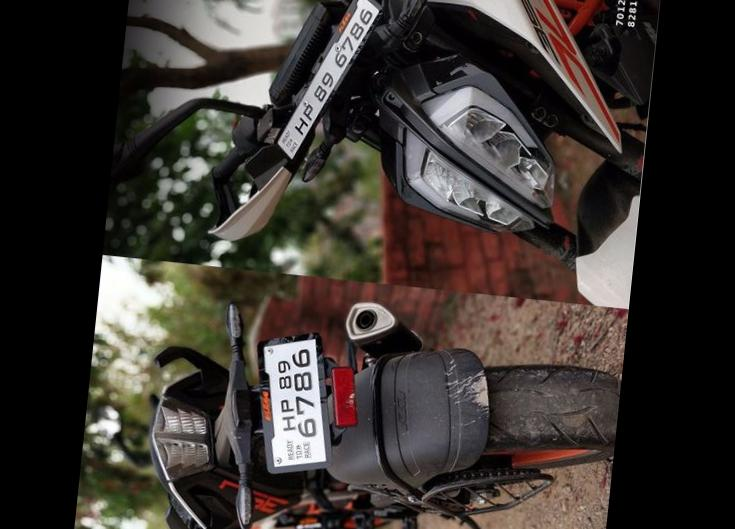plate: (262, 335, 328, 478)
